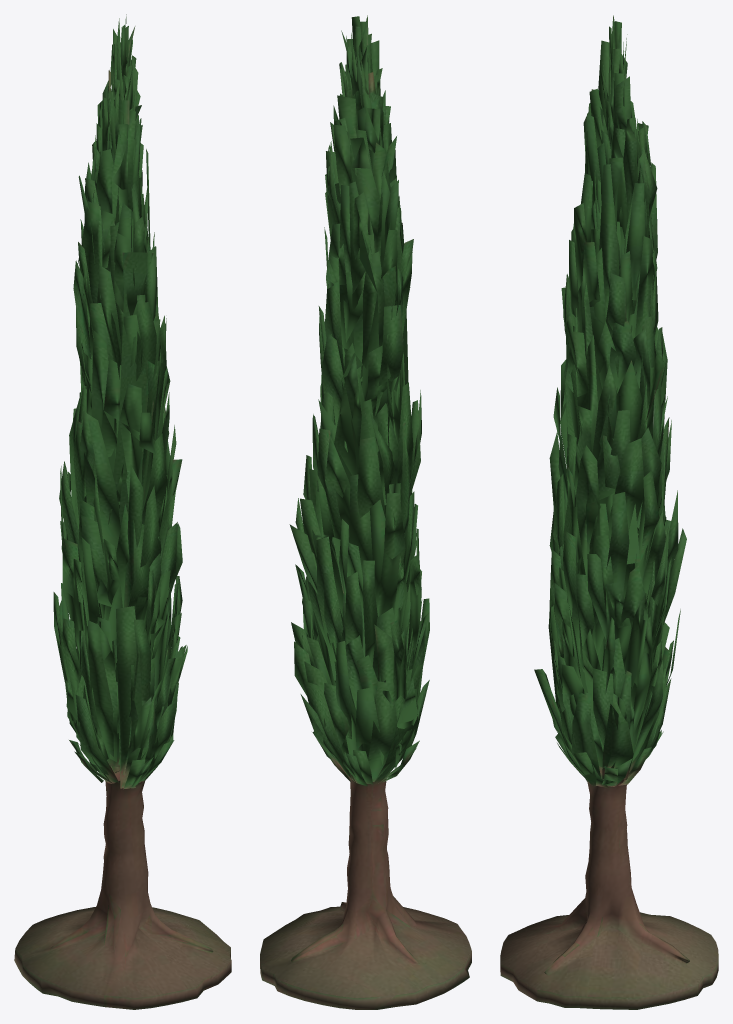
The model's file is cypress.glb.
3 renders of one model, left to right at view 1: azimuth 30°, elevation 25°; view 2: azimuth 150°, elevation 25°; view 3: azimuth 270°, elevation 25°, orthographic.
Size of the model in its own units: 0.1904 by 0.9517 by 0.1982.
Materials: 1 (1 with a texture image).
